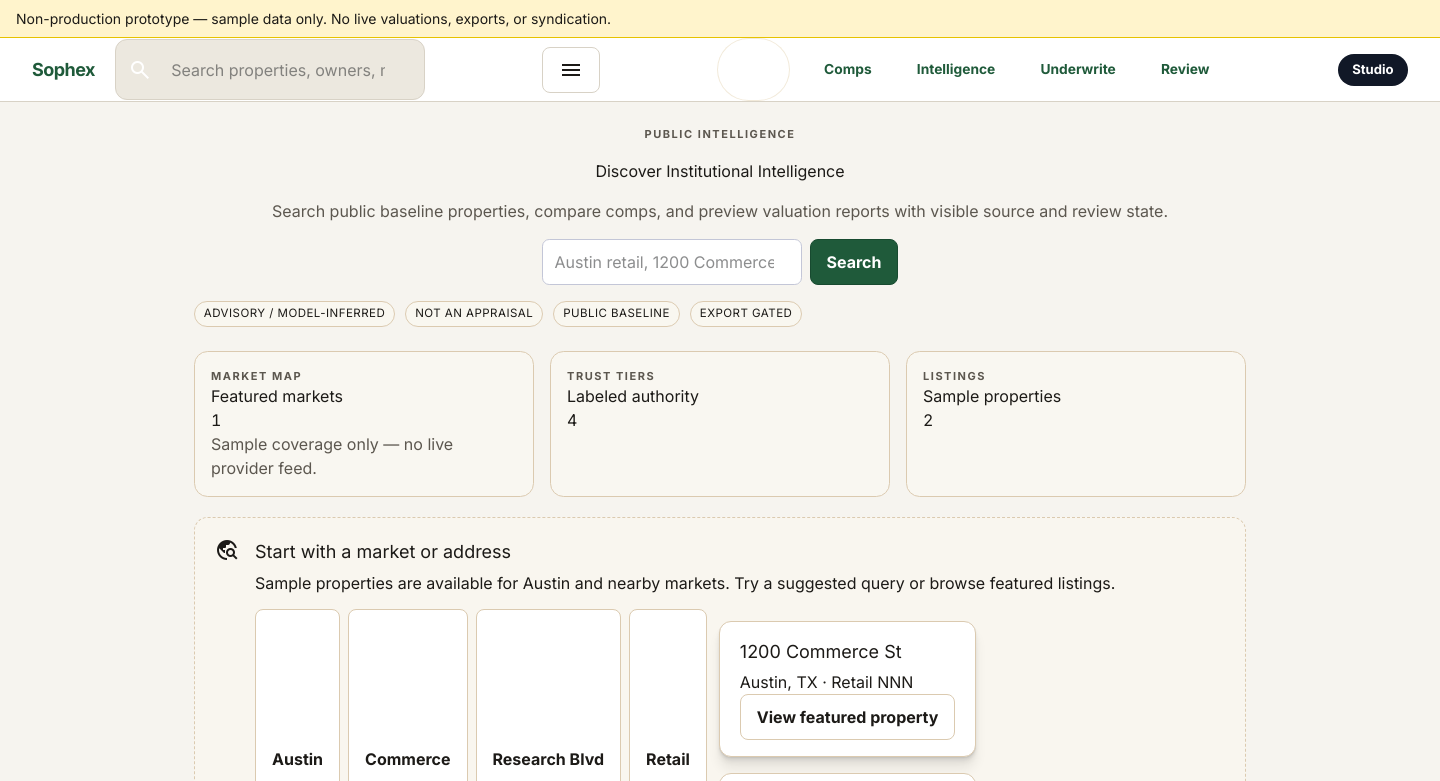
public Sophex routes › shows an empty-state message when search returns no matches
The width and height of the screenshot is (1440, 781).
Type "zzzz-no-match" into the search field named "Property or market" at [672, 262], box [542, 238, 802, 285]
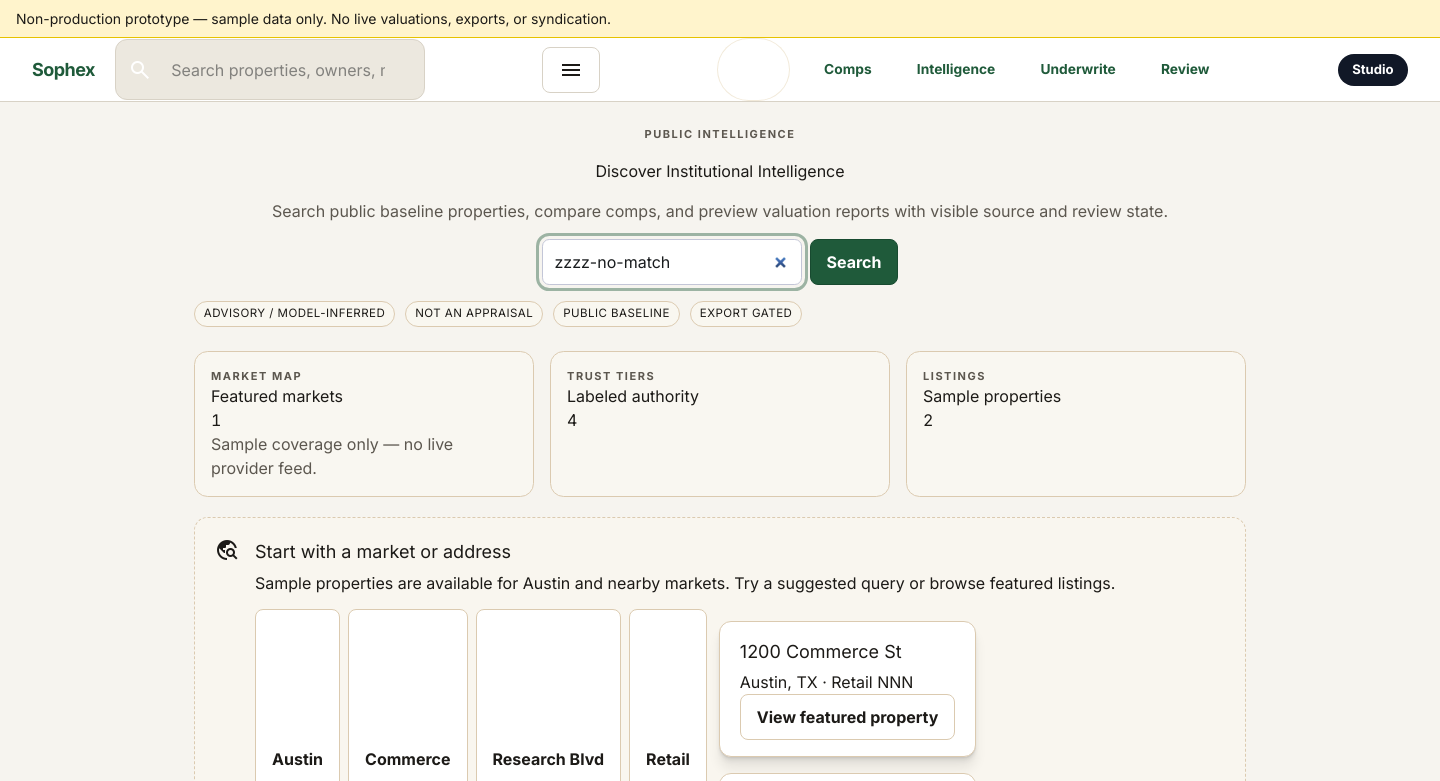
Click the button "Search" at [854, 262], box [810, 238, 898, 285]
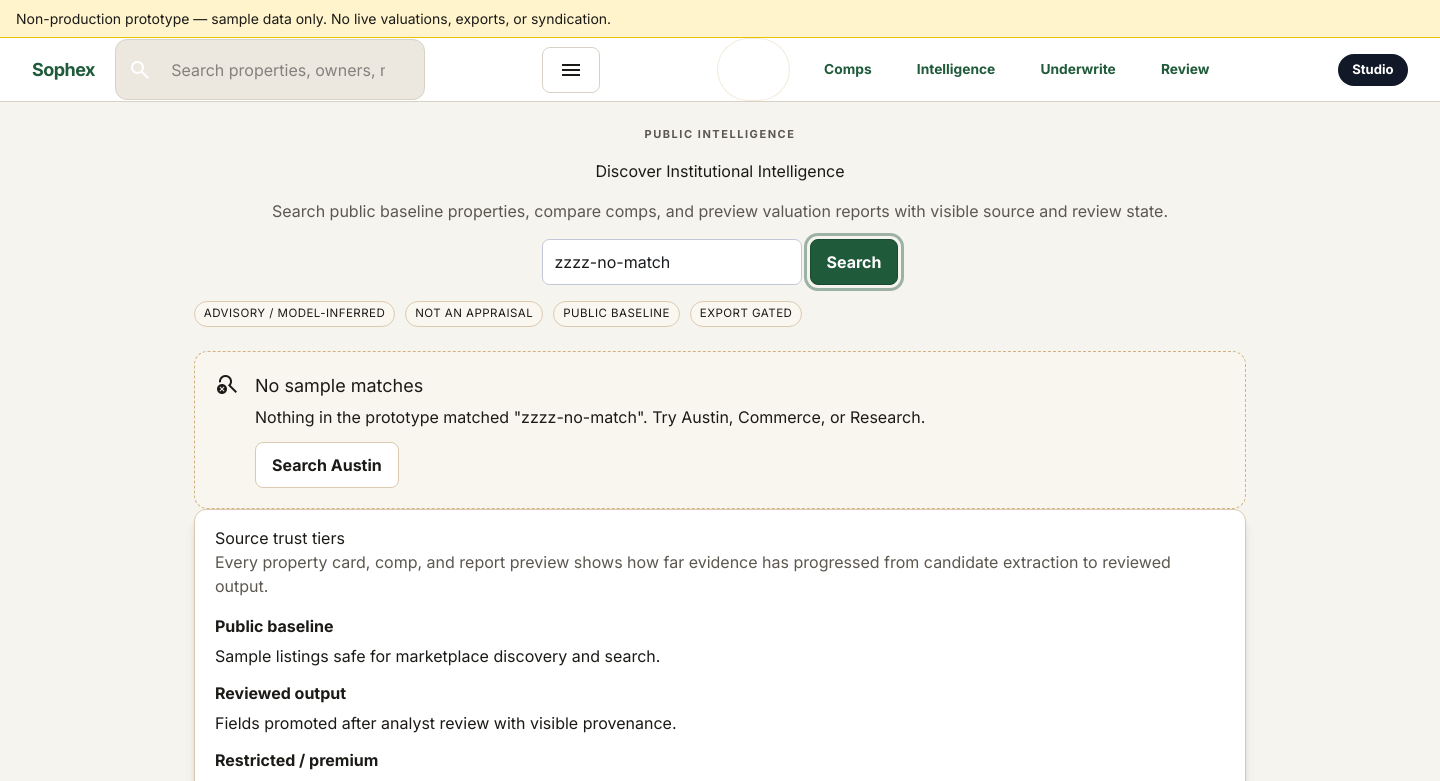
Now the heading "No sample matches" is shown, box [255, 375, 423, 396]
